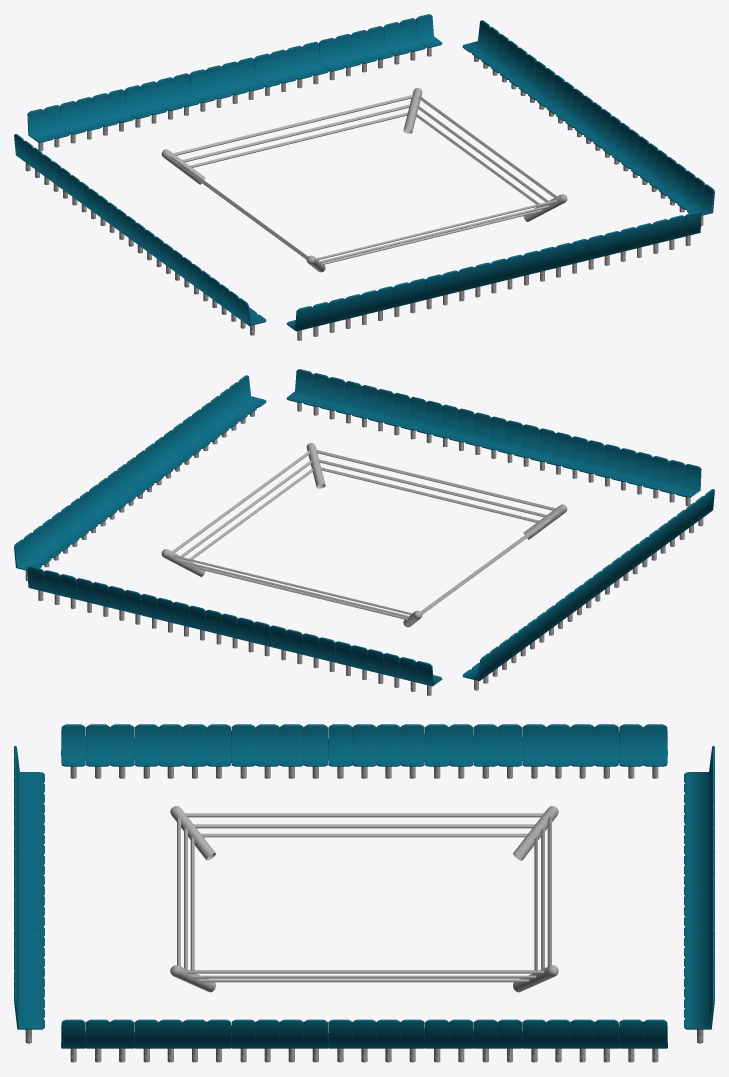
File: Stage_Ringitem.fbx
3 views of the same model, one above another, from view 1: azimuth 30°, elevation 25°; view 2: azimuth 150°, elevation 25°; view 3: azimuth 270°, elevation 25° (orthographic). The views are drawn at different scales.
Visible parts, largest first — view 1: Stage_Ringitem; view 2: Stage_Ringitem; view 3: Stage_Ringitem.
Part boxes in pixels (box(x1,y1,x2,y2)): Stage_Ringitem: box(14, 14, 714, 340); Stage_Ringitem: box(14, 369, 714, 695); Stage_Ringitem: box(14, 724, 714, 1062).
Size of the model in its own units: 1482 by 126 by 1482.
2 materials, 1 textured.
